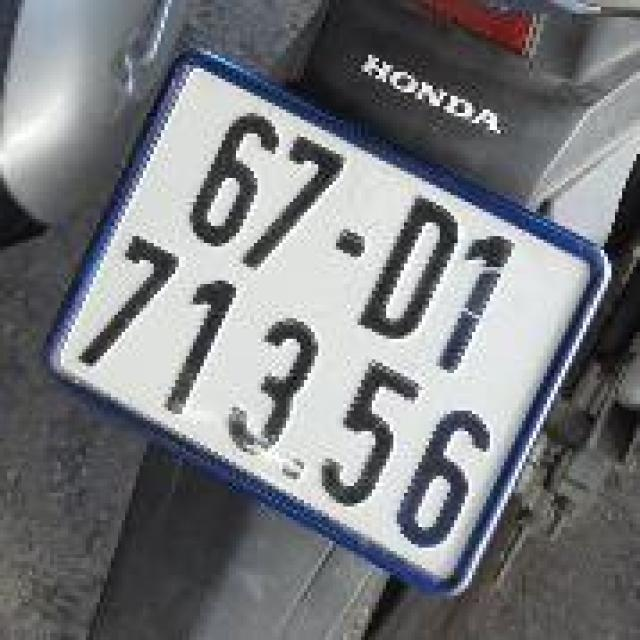1: (413, 220, 528, 389), (134, 259, 250, 425)
3: (209, 301, 330, 471)
5: (304, 348, 431, 523)
6: (381, 394, 504, 566), (171, 99, 290, 265)
7: (227, 127, 359, 295), (68, 222, 189, 389)
D: (341, 182, 476, 360)
